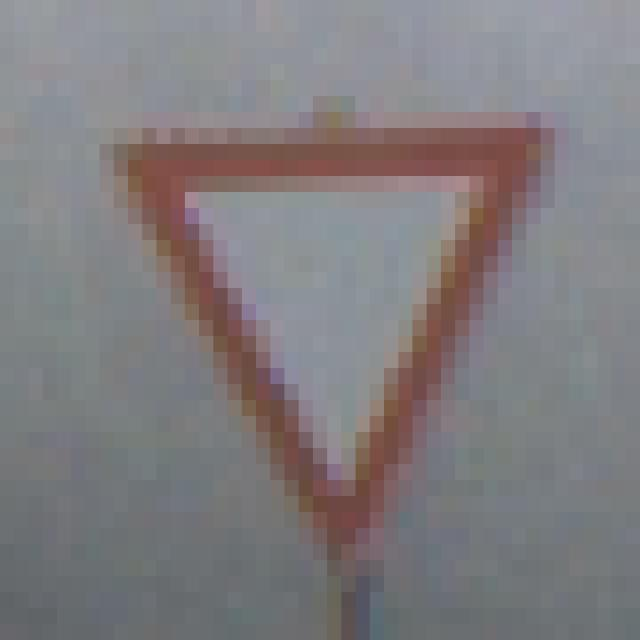Give Way: (86, 81, 570, 561)
